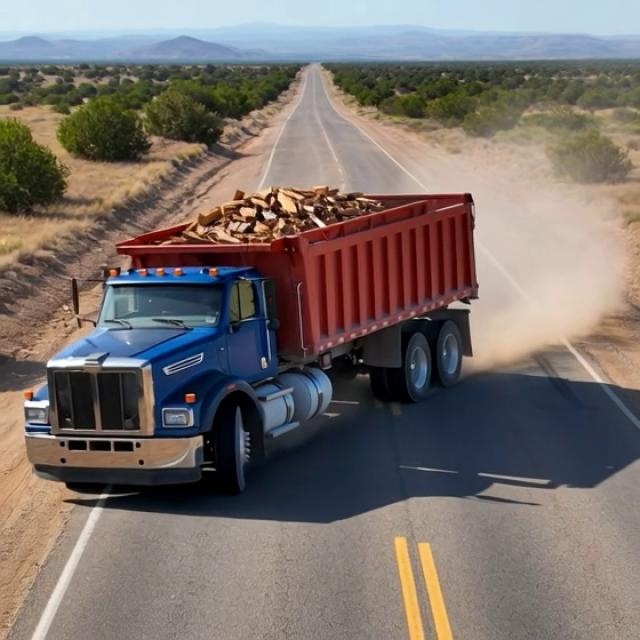trailer: (113, 182, 484, 260)
truck: (17, 175, 519, 490)
